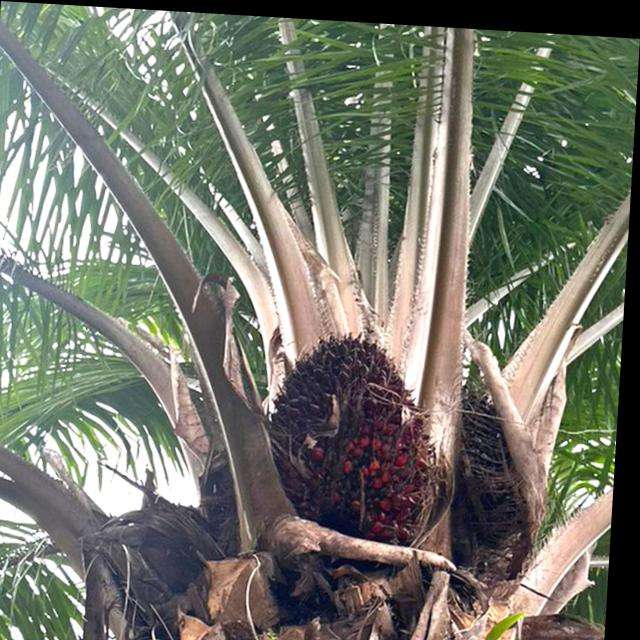ripe: (244, 306, 457, 556)
